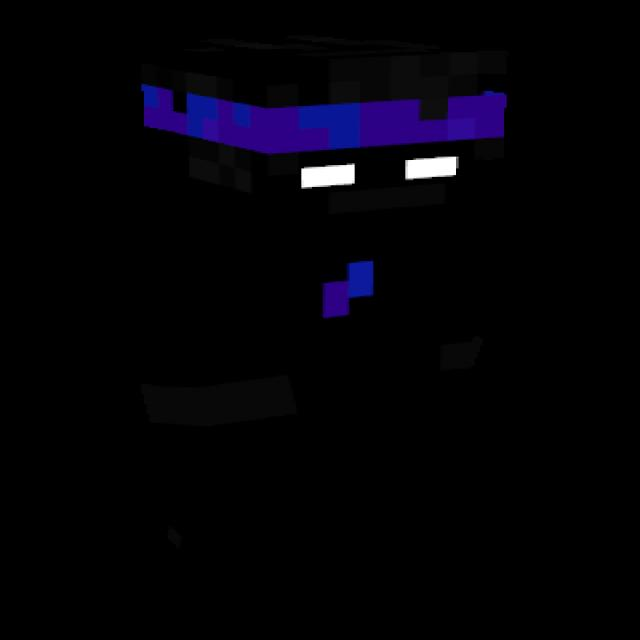Player: (78, 31, 551, 606)
